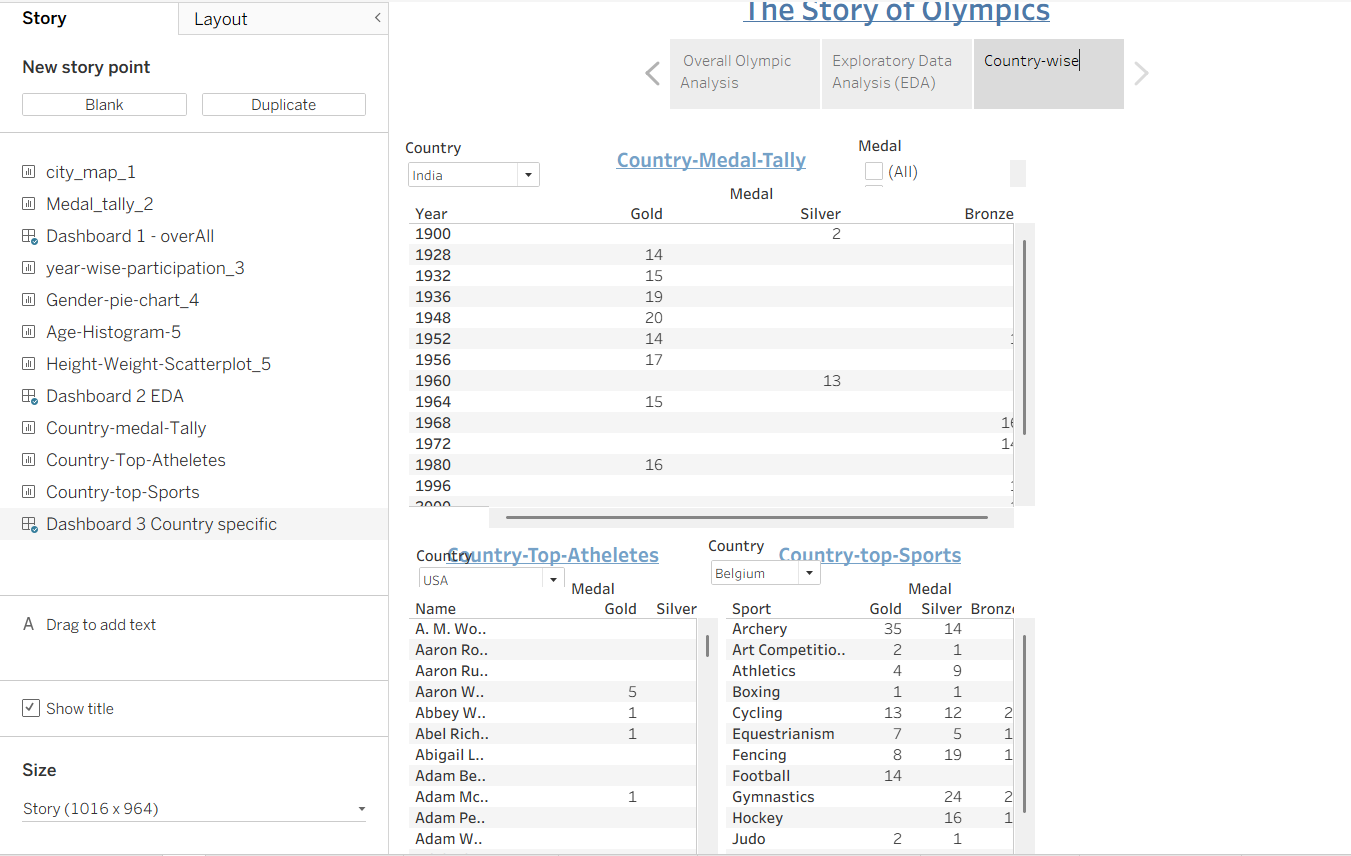

This screenshot's page, from the dashboard's own definition file:
{"tool":"tableau","page":{"name":"Dashboard 3 Country specific","canvas":[650,860],"ordinal":2},"visuals":[{"type":"filter","title":"Country-medal-Tally","param":"[federated.15ns31m0mitcjz1bs6cvq17sthcg].[none:Medal:nk]","box":[461,6.1,168,55.5]},{"type":"worksheet","title":"Country-medal-Tally","mark":"Automatic","rows":["Year"],"cols":["Medal"],"box":[8,8.1,634,421.9]},{"type":"filter","title":"Country-medal-Tally","param":"[federated.15ns31m0mitcjz1bs6cvq17sthcg].[none:country:nk]","box":[8,8.1,138,61.6]},{"type":"worksheet","title":"Country-Top-Atheletes","mark":"Automatic","rows":["Name"],"cols":["Medal"],"box":[8,430,317,421.9]},{"type":"worksheet","title":"Country-top-Sports","mark":"Automatic","rows":["Sport"],"cols":["Medal"],"box":[325,430,317,421.9]},{"type":"filter","title":"Country-top-Sports","param":"[federated.15ns31m0mitcjz1bs6cvq17sthcg].[none:country:nk]","box":[311,433,116,61.6]},{"type":"filter","title":"Country-Top-Atheletes","param":"[federated.15ns31m0mitcjz1bs6cvq17sthcg].[none:country:nk]","box":[15,440.1,160,53.5]}]}

Visuals, with their boxes on the page's 650x860 design canvas (x1, y1, x2, y2). These are canvas units, not pixel positions in the 1351x856 screenshot, which may show the page scaled, cropped or inside an application window:
"Country-medal-Tally" filter: 461,6,629,62
"Country-medal-Tally" worksheet: 8,8,642,430
"Country-medal-Tally" filter: 8,8,146,70
"Country-Top-Atheletes" worksheet: 8,430,325,852
"Country-top-Sports" worksheet: 325,430,642,852
"Country-top-Sports" filter: 311,433,427,495
"Country-Top-Atheletes" filter: 15,440,175,494
